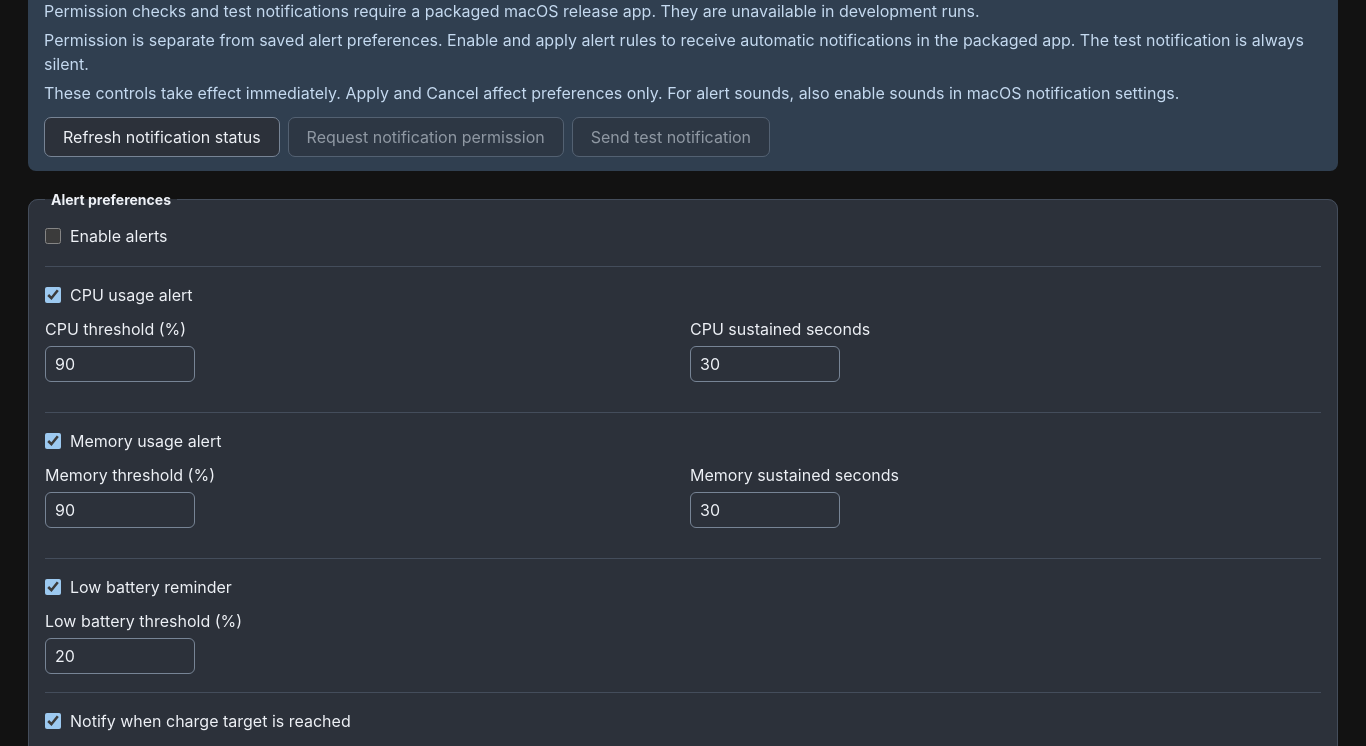
Scenario: Settings window › invalid values are highlighted even when alerts are disabled
(page scrolled)
Replace the text in the number field labelled "CPU threshold (%)" with "101" at (120, 364), box [45,346,195,382]
(page scrolled)
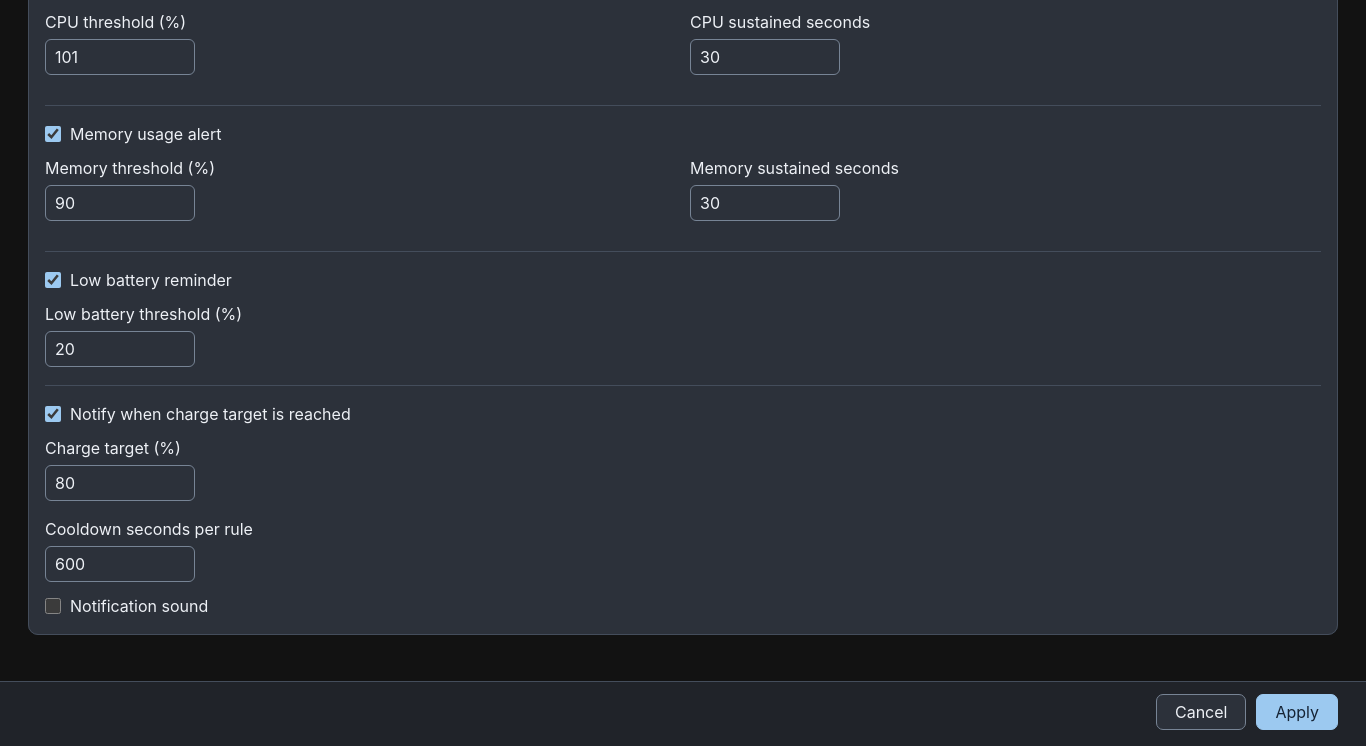
Replace the text in the number field labelled "Cooldown seconds per rule" with "0" at (120, 564), box [45,546,195,582]
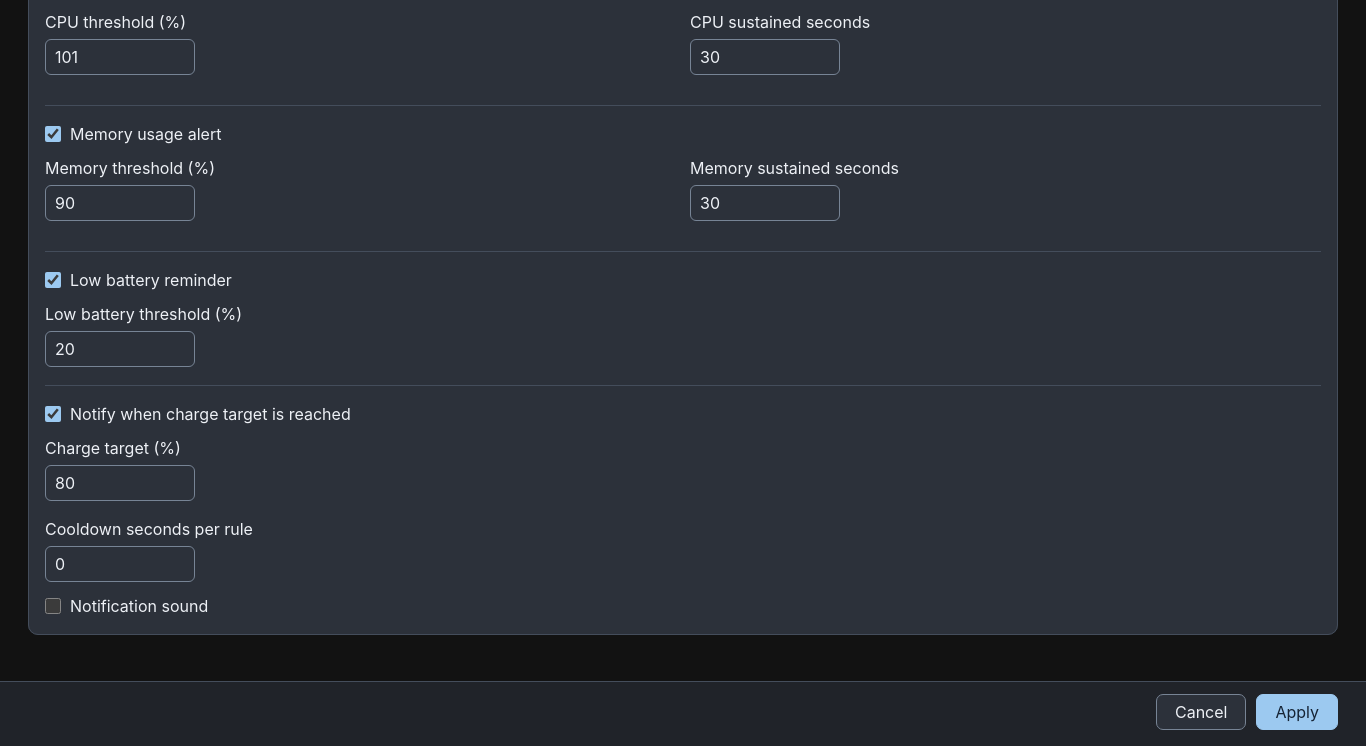
Click the button "Apply" at (1297, 712), box [1256,694,1338,730]
(page scrolled)
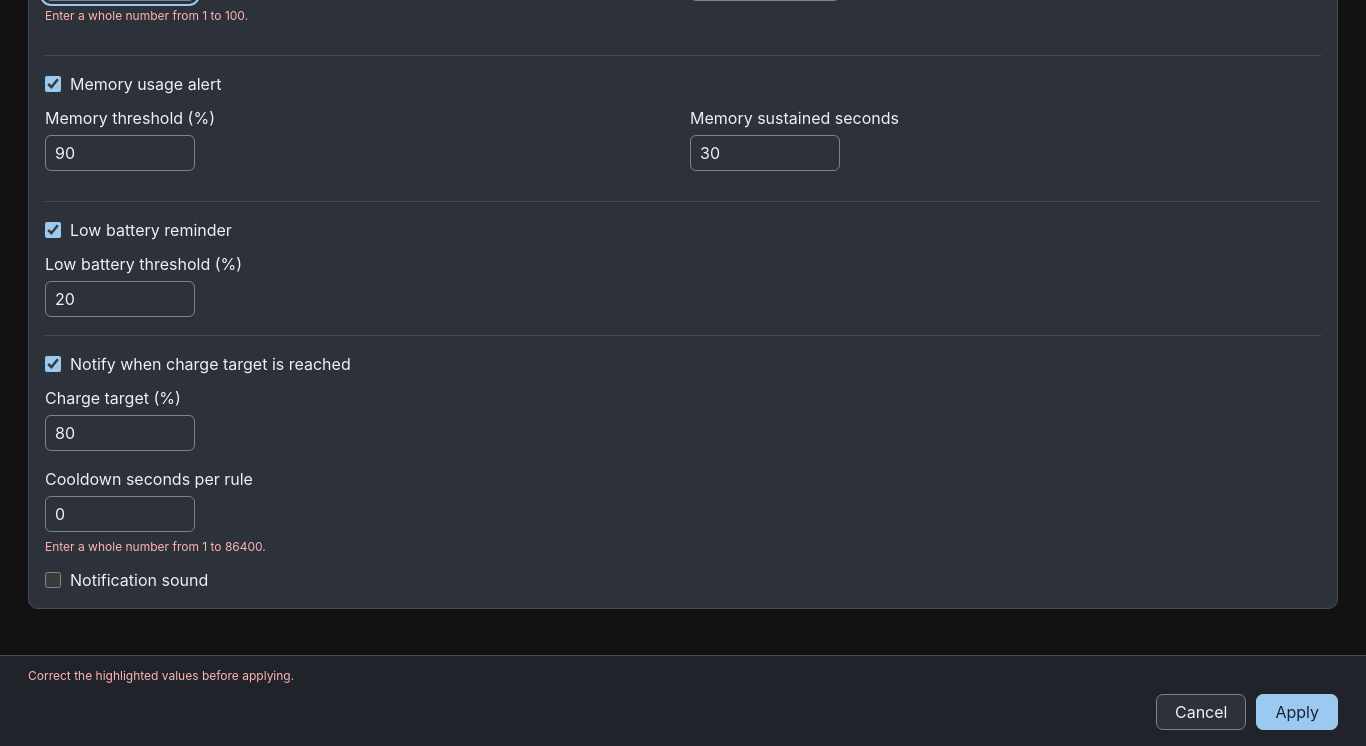
Expected: the text "Correct the highlighted values before applying." is shown, [28,668,294,683]
